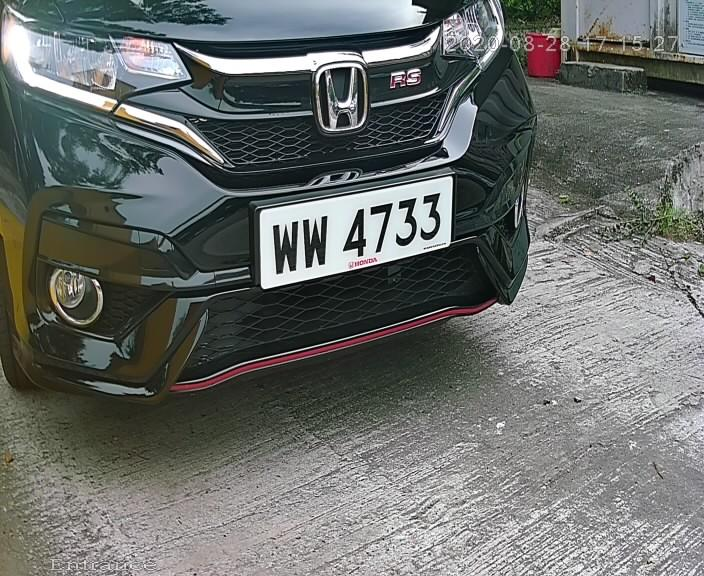License Plate: (234, 161, 466, 303)
